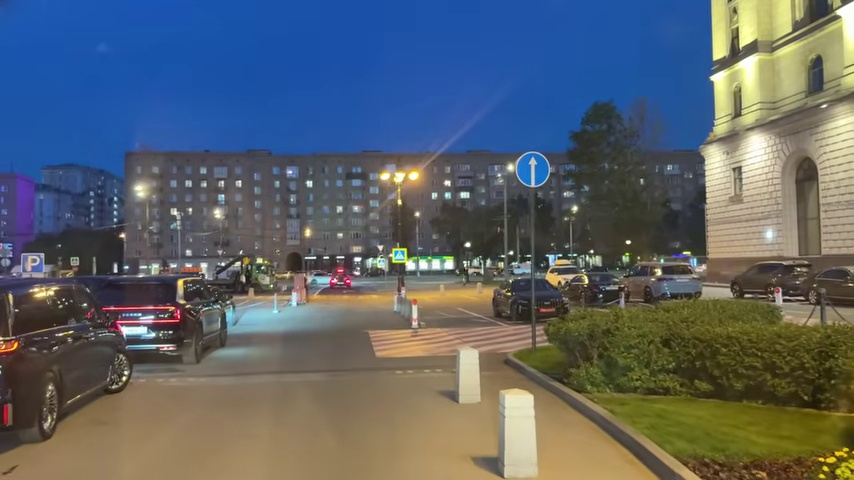acesa: (131, 180, 152, 201), (400, 167, 423, 186), (301, 226, 315, 240)
